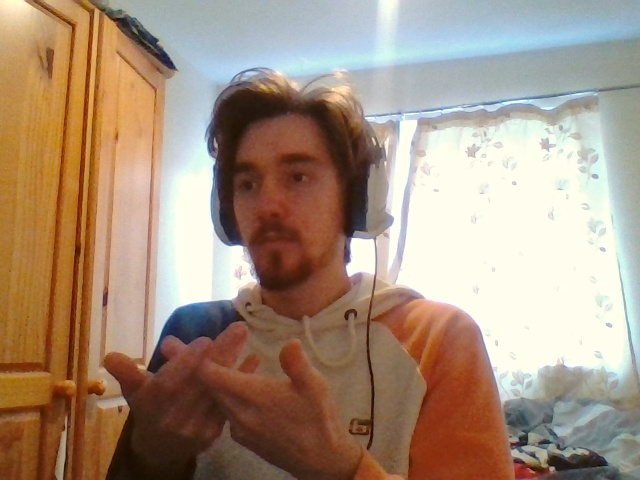how: (103, 322, 335, 459)
